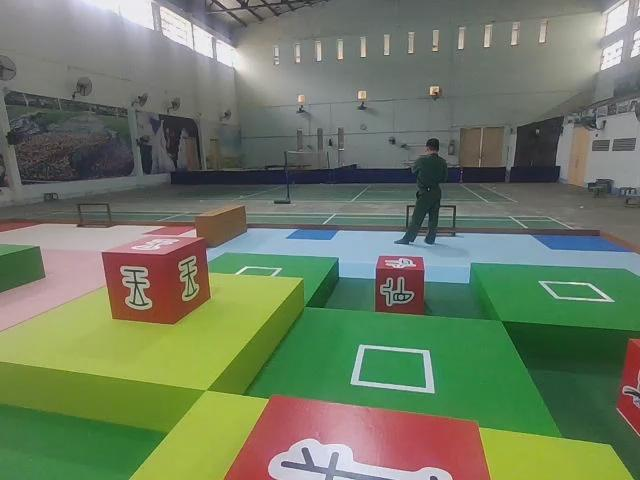R2 Real: (99, 230, 213, 327), (372, 252, 428, 318)
